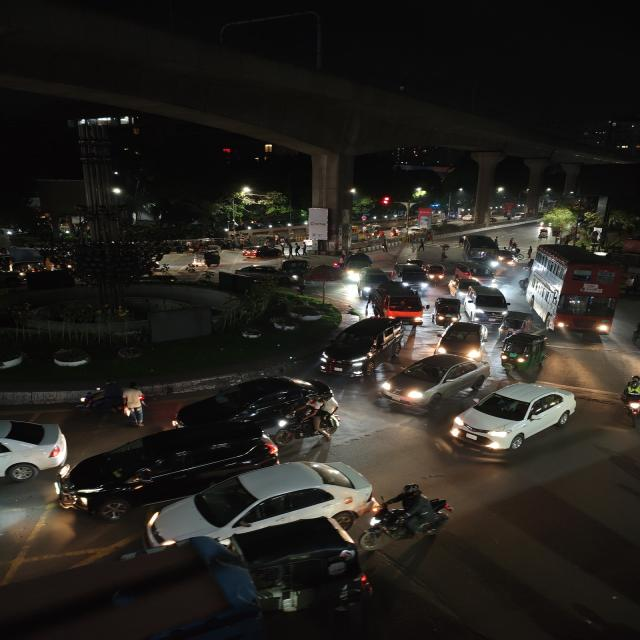bus: (526, 243, 624, 339), (459, 232, 503, 272)
car: (52, 419, 281, 521), (149, 456, 374, 550), (442, 380, 581, 460), (166, 374, 335, 436), (376, 353, 488, 412), (314, 316, 410, 376), (0, 414, 71, 488), (433, 321, 488, 358), (468, 285, 512, 321), (392, 264, 433, 288), (455, 262, 493, 286), (240, 245, 287, 262)
cng: (232, 516, 372, 618), (498, 332, 549, 373), (430, 296, 466, 326), (496, 314, 531, 338), (193, 249, 219, 269)
motorcycle: (368, 479, 456, 548), (74, 380, 144, 421), (616, 373, 640, 425)
pedestrian: (438, 242, 452, 260), (380, 240, 391, 252)
pickup_van: (368, 284, 428, 324)
